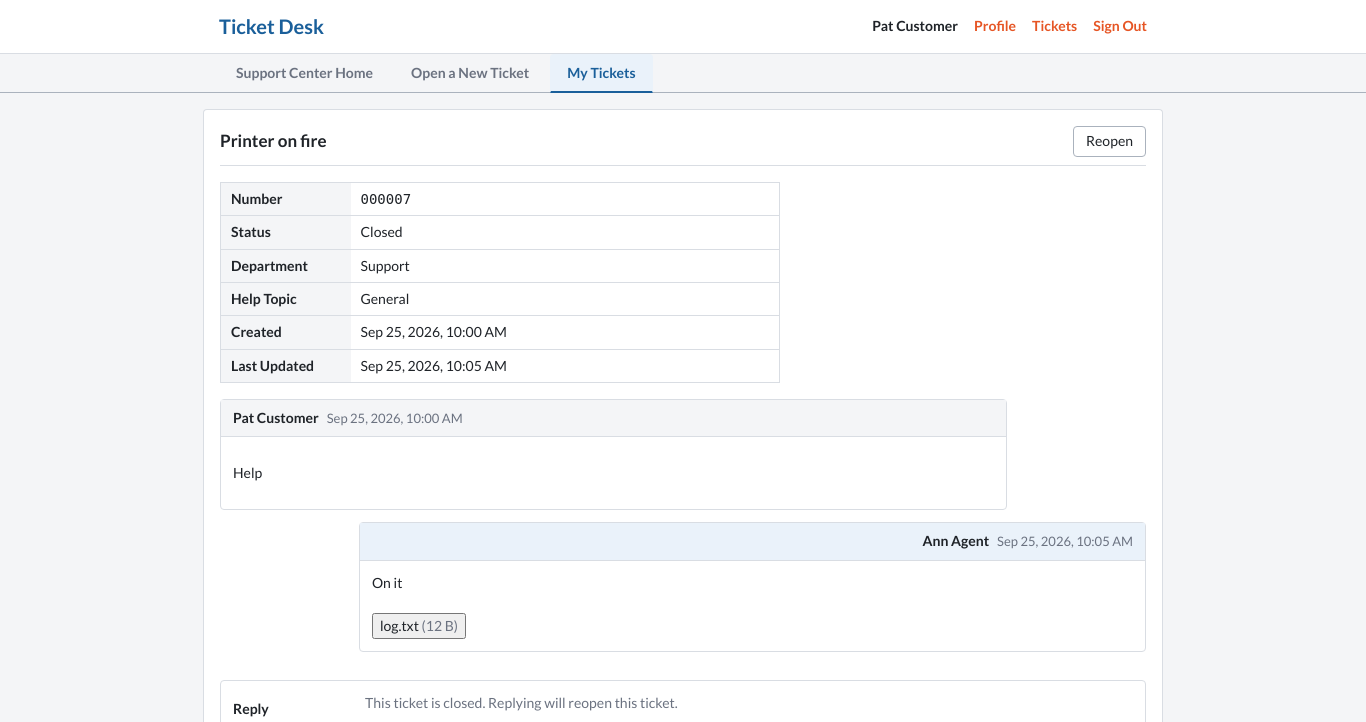
Test: offers Reopen on a closed ticket and notes that replying reopens it
The width and height of the screenshot is (1366, 722).
Expected: the text "This ticket is closed. Replying will reopen this ticket." is shown, [365, 694, 678, 711]
Click the button "Reopen": x=1110, y=142 [1073, 126, 1146, 157]
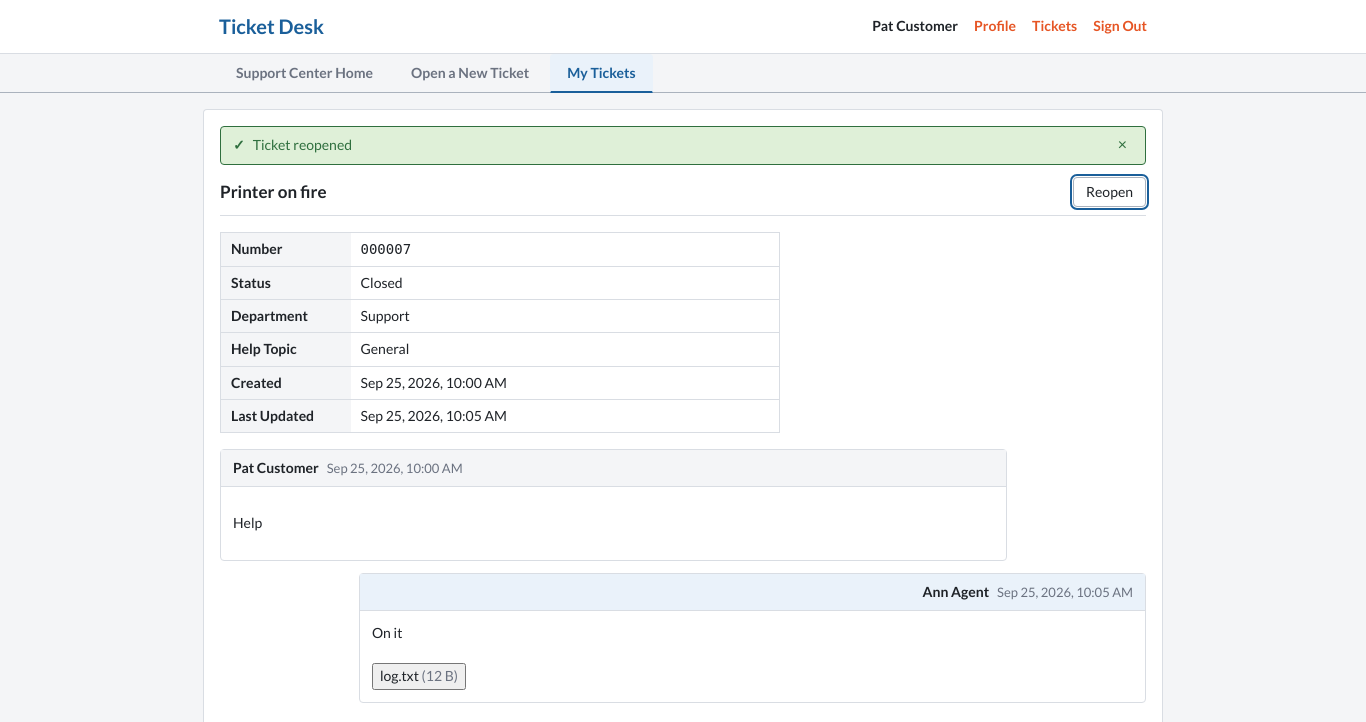
Now the text "Ticket reopened" is shown, box [253, 136, 352, 153]
